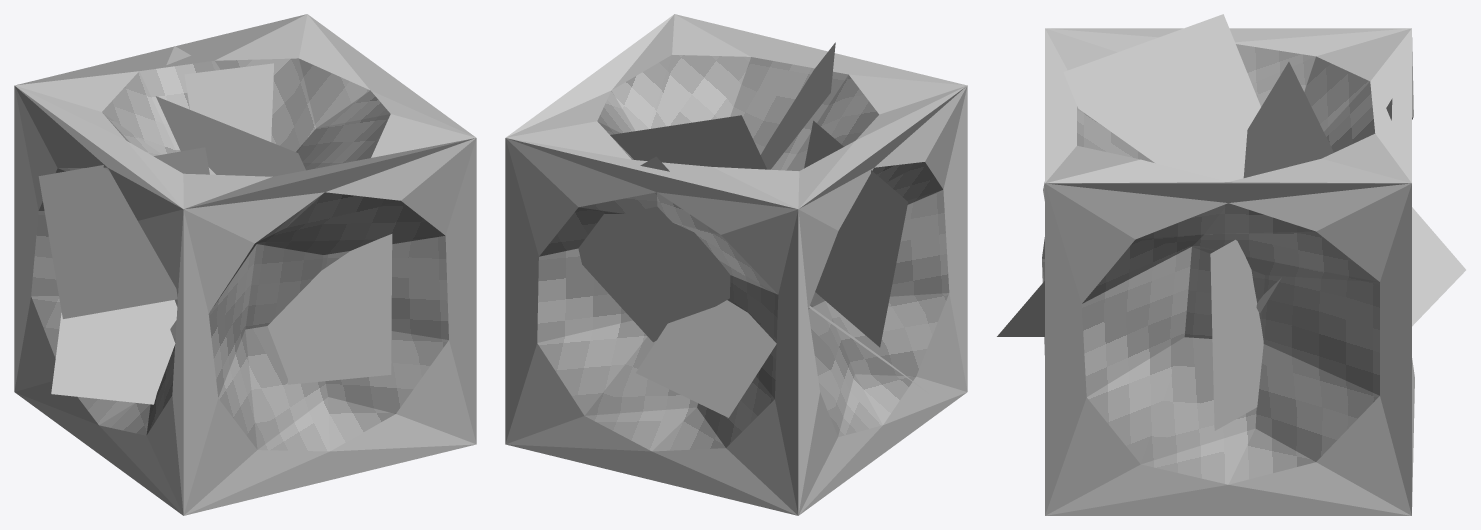
Rendered from ore_transform3.obj.
The picture shows the model from 3 angles, left to right: view 1: azimuth 30°, elevation 25°; view 2: azimuth 150°, elevation 25°; view 3: azimuth 270°, elevation 25°; orthographic projection. The views are drawn at different scales.
Parts seen in each view (by area): view 1: mesh, plane; view 2: mesh, plane; view 3: mesh, plane.
Part boxes in pixels (left/top/right/bottom): mesh: left=14, top=14, right=476, bottom=515; plane: left=38, top=46, right=392, bottom=404; mesh: left=505, top=14, right=967, bottom=515; plane: left=578, top=42, right=927, bottom=417; mesh: left=1042, top=28, right=1414, bottom=515; plane: left=997, top=14, right=1465, bottom=430.
Size of the model in its own units: 1.24 by 1.25 by 1.28.
